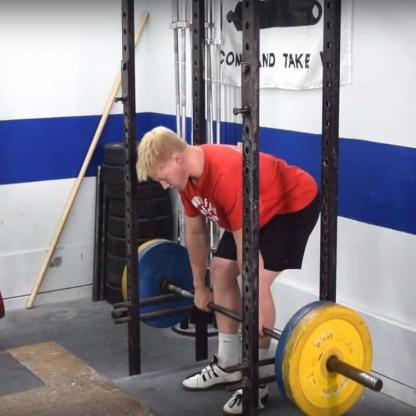Barbell: (270, 297, 393, 415)
